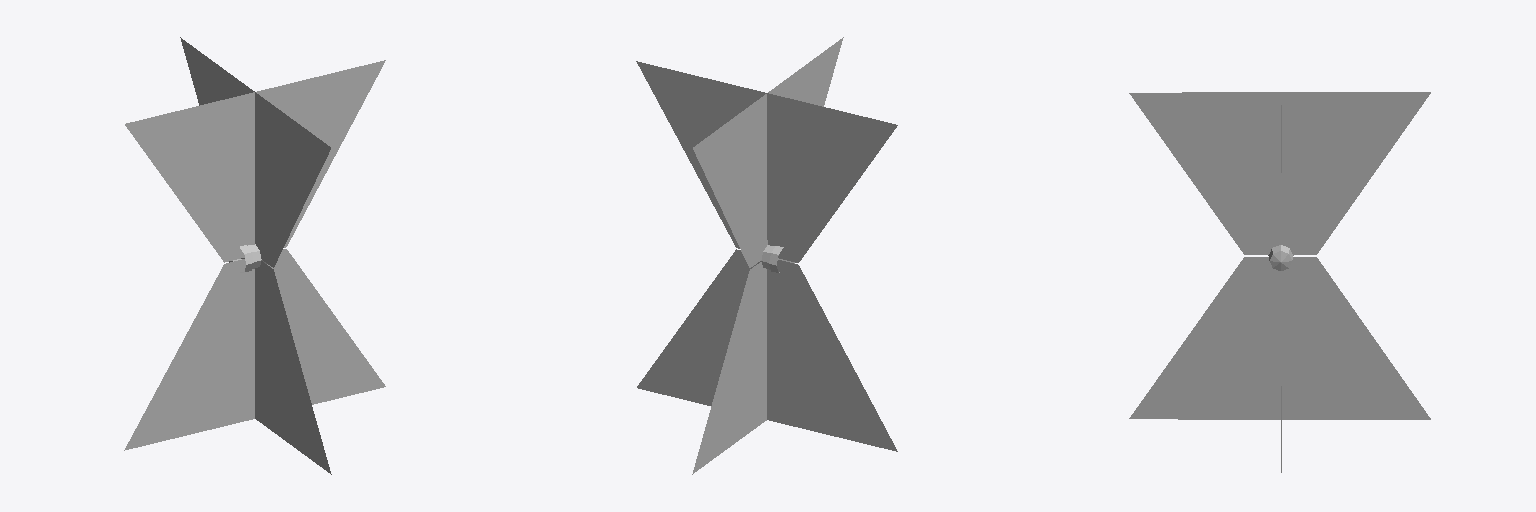
Rendered from stg400_MotRotlightA_w1_23.obj.
3 views of the same model, side by side, from view 1: azimuth 30°, elevation 25°; view 2: azimuth 150°, elevation 25°; view 3: azimuth 270°, elevation 25° (orthographic).
Visible parts, largest first — view 1: polygon4; view 2: polygon4; view 3: polygon4.
Boxes of the visible parts, x1,y1,x2,y2 form: polygon4: [124, 37, 385, 474]; polygon4: [636, 37, 897, 474]; polygon4: [1129, 92, 1430, 472].
Bounding box in the file's own units: 91.26 × 109 × 91.26.